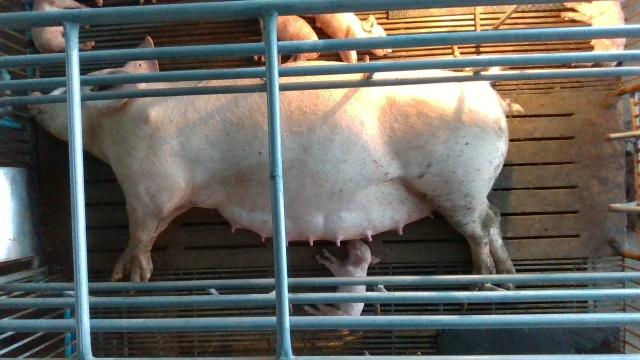piglet: (310, 239, 380, 316), (250, 2, 321, 66), (561, 1, 625, 69), (314, 14, 392, 64), (30, 1, 94, 55)
sow-sleep-lactate: (24, 36, 520, 295)
